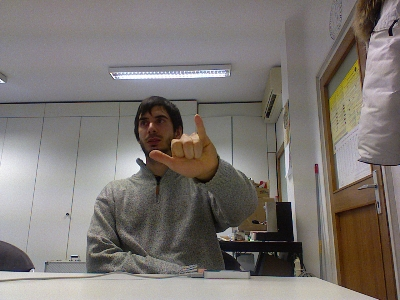六六六: (148, 112, 219, 179)
